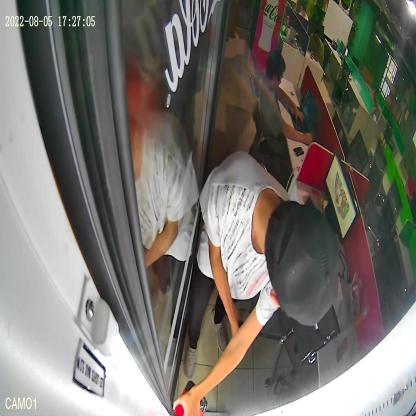red: (172, 380, 208, 416)
